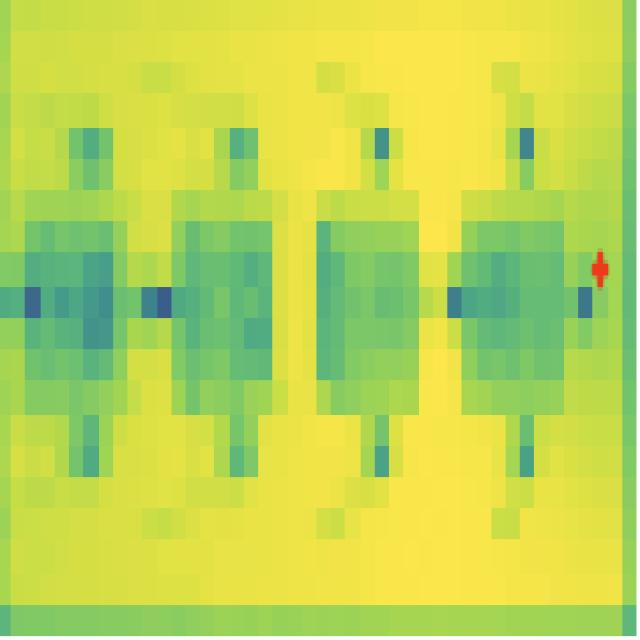Concrete: (15, 177, 142, 444)
Glass: (452, 172, 572, 437)
Metal: (167, 186, 287, 430)
Wood: (310, 197, 429, 430)
